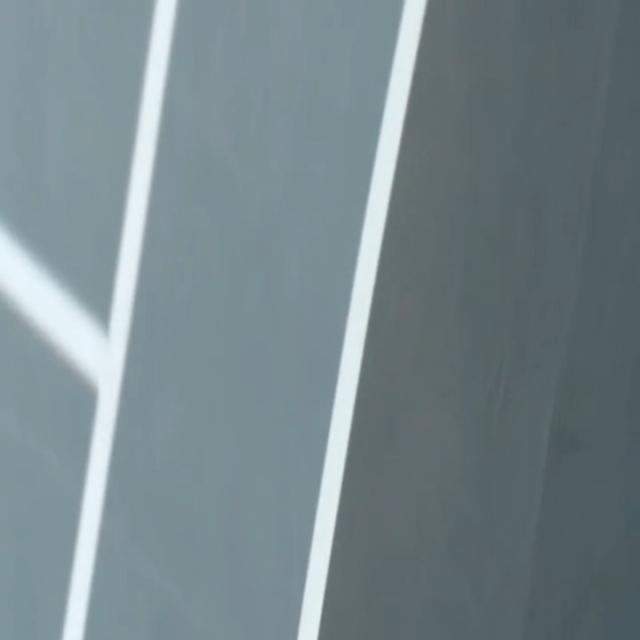left: (298, 0, 427, 639)
